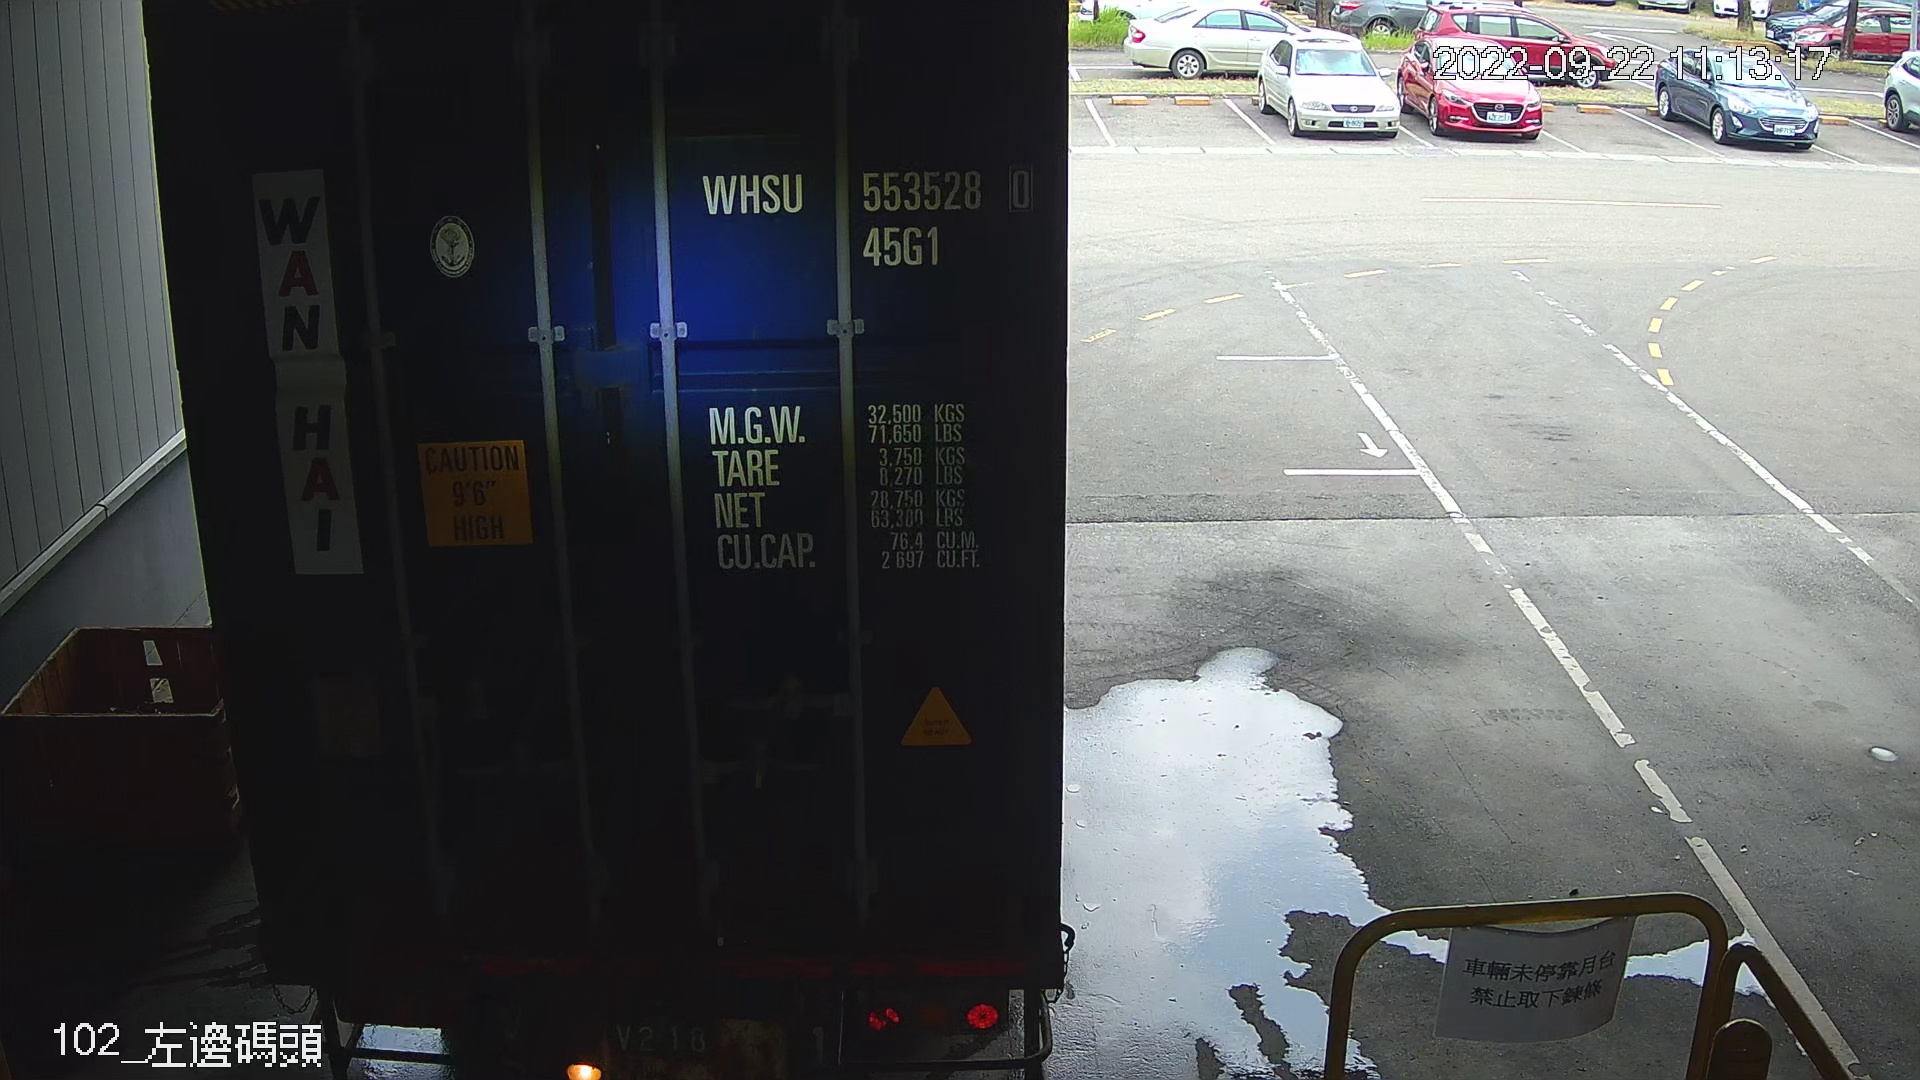container: (688, 157, 1044, 280)
